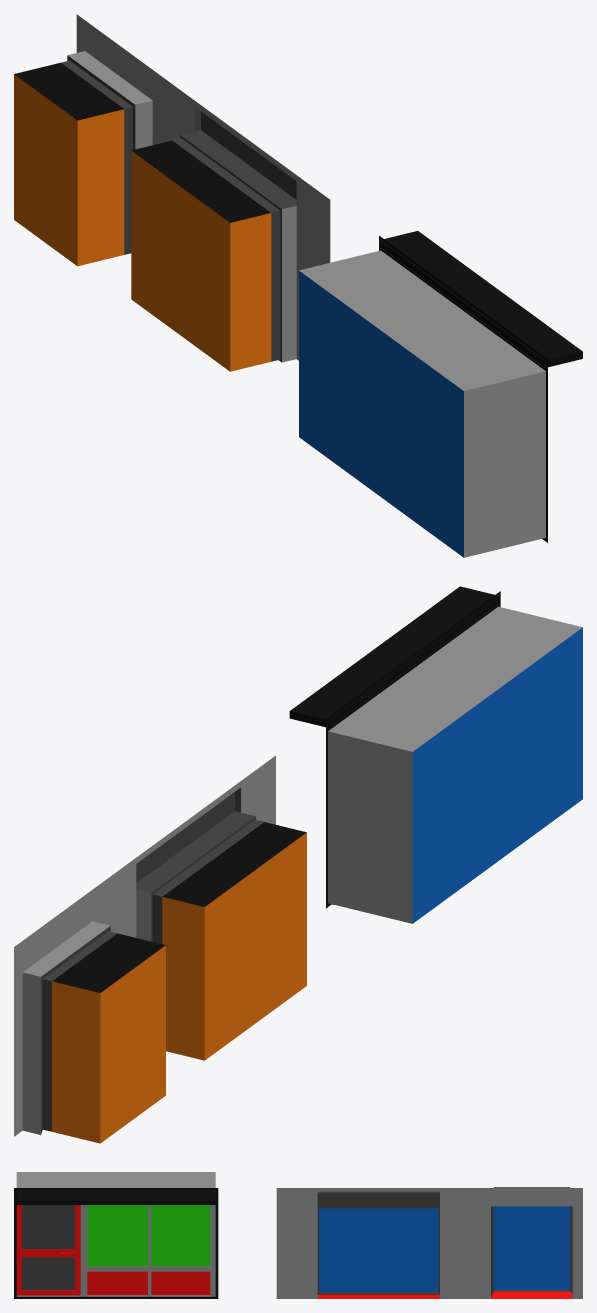
File: CityDoors00.FBX
The picture shows the model from 3 angles, top to bottom: view 1: azimuth 30°, elevation 25°; view 2: azimuth 150°, elevation 25°; view 3: azimuth 270°, elevation 25°; orthographic projection. The views are drawn at different scales.
Visible parts, largest first — view 1: CityTerrain_Base_3x011, CityTerrain_Base_3x5, CityTerrain_Base_3x2.5_00; view 2: CityTerrain_Base_3x011, CityTerrain_Base_3x5, CityTerrain_Base_3x2.5_00; view 3: CityTerrain_Base_3x011, CityTerrain_Base_3x5, CityTerrain_Base_3x2.5_00.
Part boxes in pixels (x1,y1,x2,y2): CityTerrain_Base_3x011: (299, 231, 582, 557); CityTerrain_Base_3x5: (131, 76, 330, 371); CityTerrain_Base_3x2.5_00: (14, 14, 161, 266); CityTerrain_Base_3x011: (289, 586, 582, 923); CityTerrain_Base_3x5: (101, 755, 306, 1060); CityTerrain_Base_3x2.5_00: (14, 883, 165, 1143); CityTerrain_Base_3x011: (14, 1172, 218, 1298); CityTerrain_Base_3x5: (276, 1188, 480, 1298); CityTerrain_Base_3x2.5_00: (481, 1187, 582, 1298).
Bounding box in the file's own units: 20.31 × 30 × 139.
